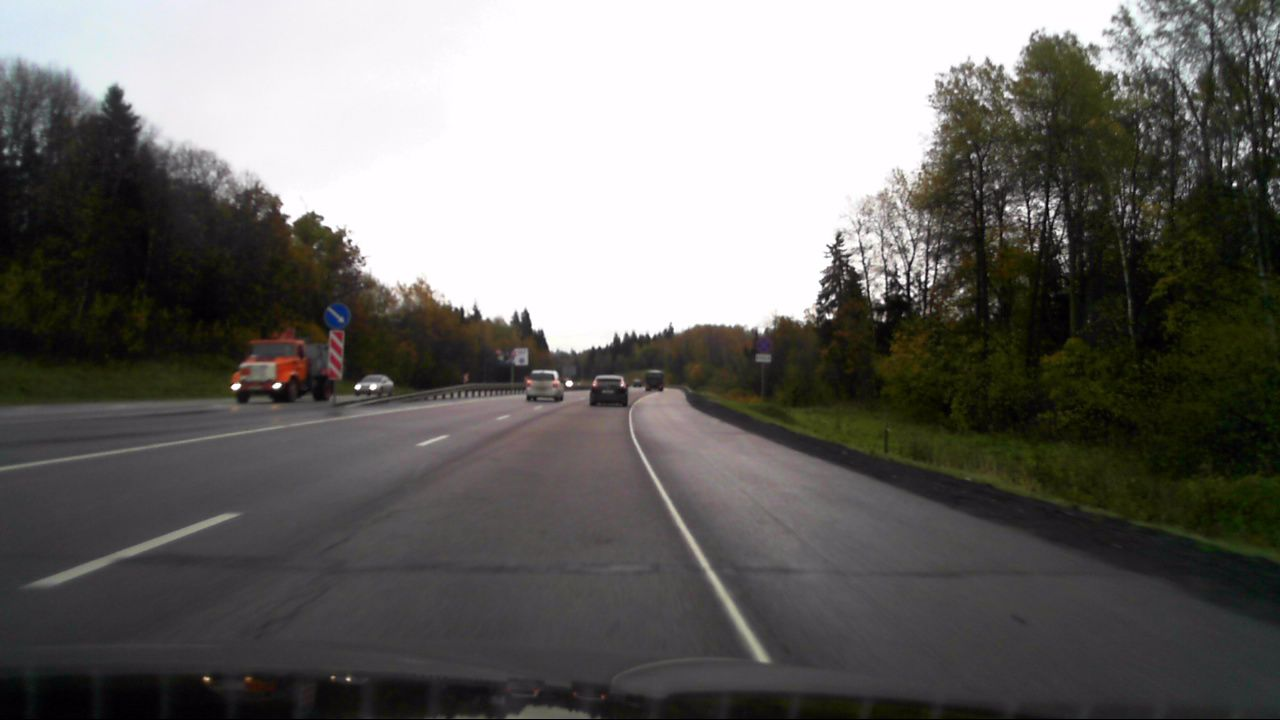No Parking: (755, 337, 771, 353)
